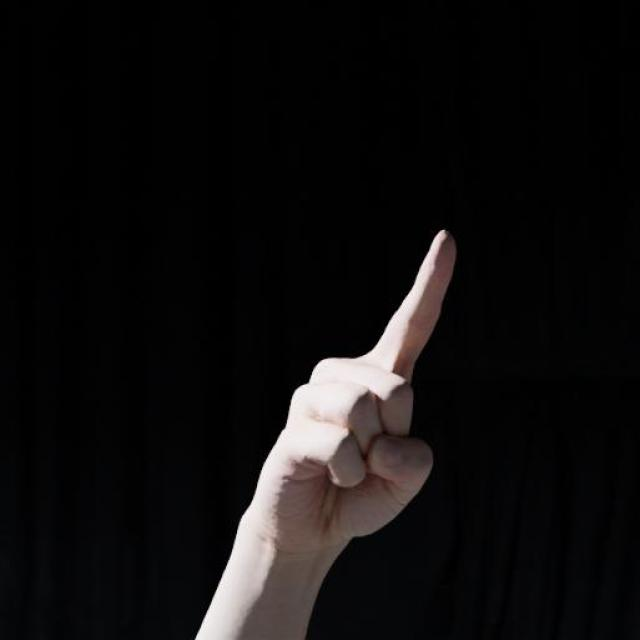Z: (231, 225, 460, 560)
